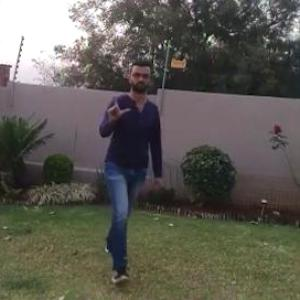land_hand: (106, 90, 133, 122)
